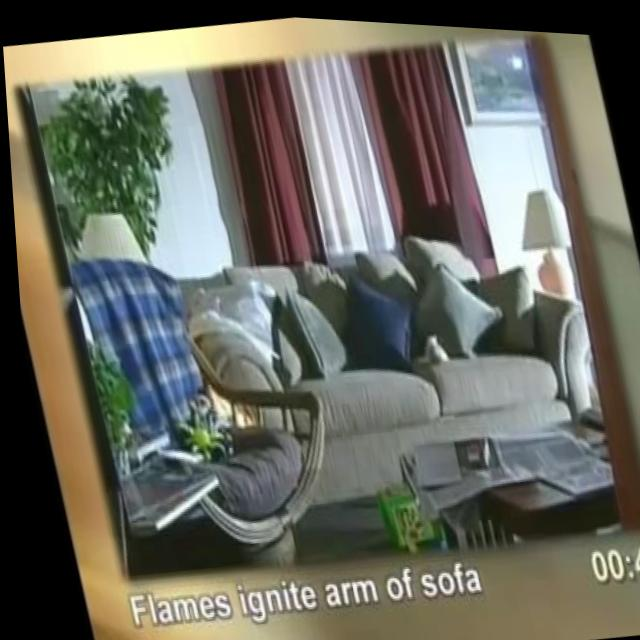fire: (199, 363, 254, 435)
